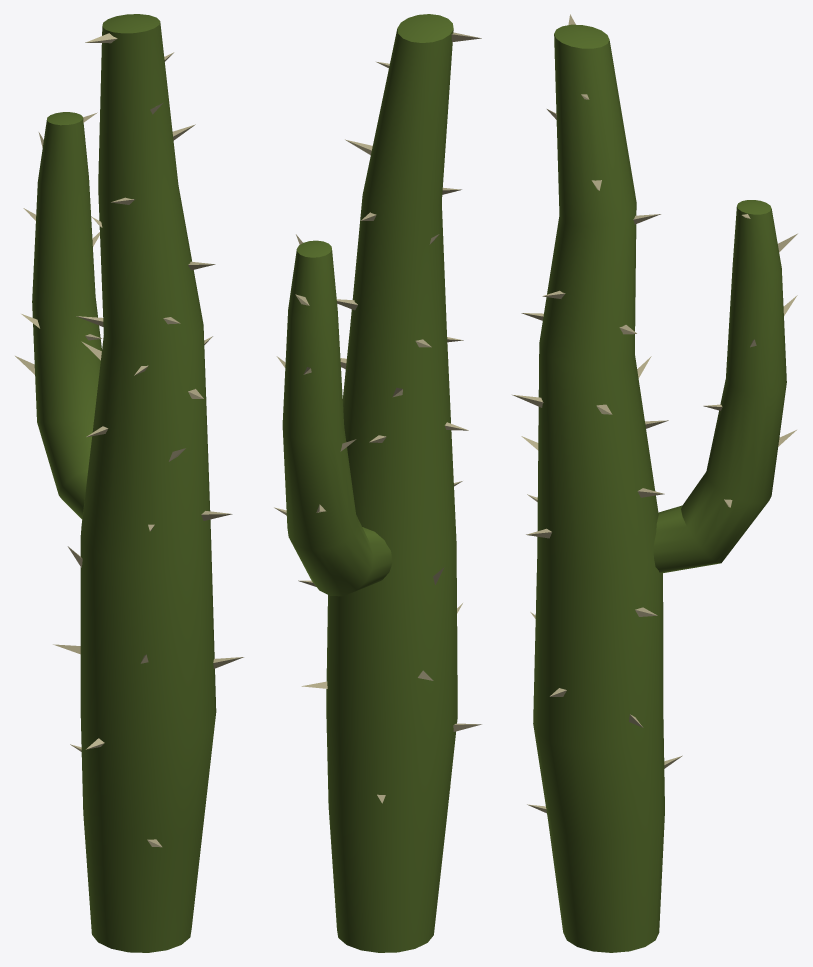
File: Sm_CactusVer4L.fbx
3 views of the same model, side by side, from view 1: azimuth 30°, elevation 25°; view 2: azimuth 150°, elevation 25°; view 3: azimuth 270°, elevation 25° (orthographic). The views are drawn at different scales.
Visible parts, largest first — view 1: Sm_CactusVer4L; view 2: Sm_CactusVer4L; view 3: Sm_CactusVer4L.
Part boxes in pixels (left/top/right/bottom): Sm_CactusVer4L: left=15, top=14, right=243, bottom=952; Sm_CactusVer4L: left=274, top=14, right=481, bottom=952; Sm_CactusVer4L: left=512, top=14, right=797, bottom=952.
Bounding box in the file's own units: 34.42 × 203 × 59.48.
